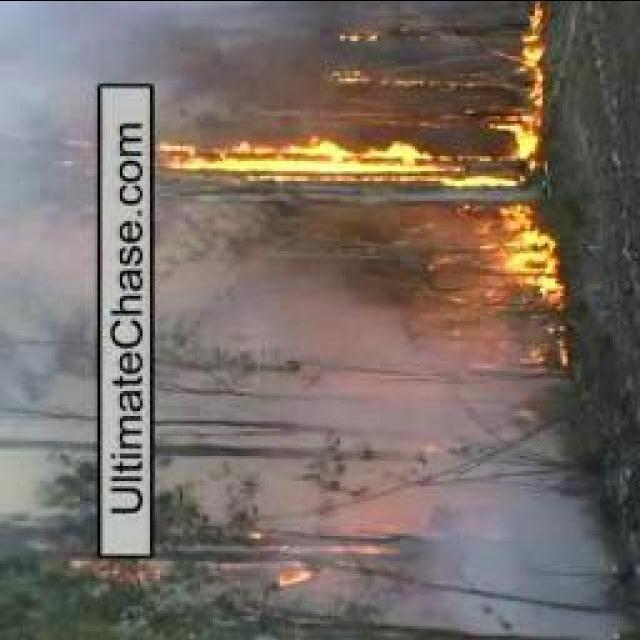Fire: (484, 0, 558, 308), (120, 142, 490, 180), (55, 535, 199, 592), (320, 62, 450, 92), (258, 562, 318, 594)
